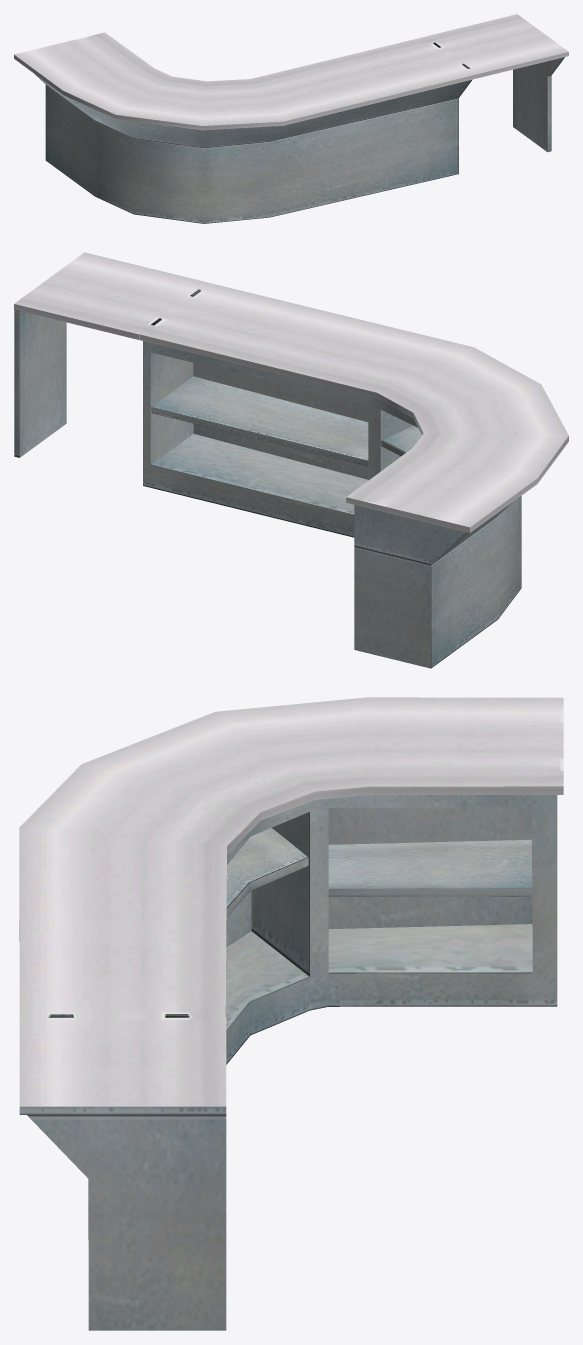
The model's file is frn_bar_piece_curve_s2_l0.fbx.
3 renders of one model, top to bottom at view 1: azimuth 30°, elevation 25°; view 2: azimuth 150°, elevation 25°; view 3: azimuth 270°, elevation 25°, orthographic. The views are drawn at different scales.
Parts seen in each view (by area): view 1: mesh_node; view 2: mesh_node; view 3: mesh_node.
Boxes of the visible parts, left/top/right/bottom form: mesh_node: left=14, top=14, right=568, bottom=223; mesh_node: left=14, top=252, right=568, bottom=668; mesh_node: left=19, top=697, right=563, bottom=1330.
Bounding box in the file's own units: 4.5 × 1.16 × 2.53.
1 material, 1 textured.
